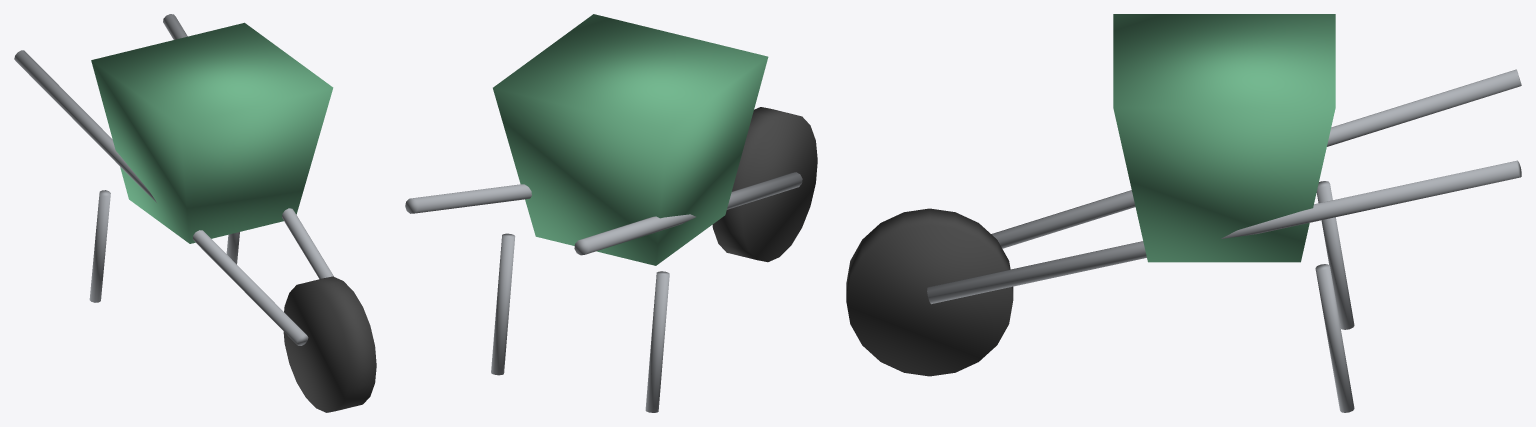
Rendered from wheelbarrow.glb.
The picture shows the model from 3 angles, left to right: view 1: azimuth 30°, elevation 25°; view 2: azimuth 150°, elevation 25°; view 3: azimuth 270°, elevation 25°; orthographic projection. The views are drawn at different scales.
Visible parts, largest first — view 1: Cone, Cylinder, Cylinder.001, Cylinder.003, Cylinder.002; view 2: Cone, Cylinder, Cylinder.001, Cylinder.003, Cylinder.004, Cylinder.002; view 3: Cone, Cylinder, Cylinder.003, Cylinder.001, Cylinder.004, Cylinder.002.
Part boxes in pixels (bbox=[...]): Cone: bbox=[91, 22, 333, 243]; Cylinder: bbox=[283, 276, 376, 412]; Cylinder.001: bbox=[14, 50, 308, 345]; Cylinder.003: bbox=[163, 14, 333, 279]; Cylinder.002: bbox=[89, 190, 110, 302]; Cone: bbox=[493, 14, 768, 265]; Cylinder: bbox=[712, 107, 817, 262]; Cylinder.001: bbox=[574, 172, 802, 255]; Cylinder.003: bbox=[405, 184, 531, 213]; Cylinder.004: bbox=[491, 233, 515, 375]; Cylinder.002: bbox=[645, 271, 669, 412]; Cone: bbox=[1113, 14, 1335, 262]; Cylinder: bbox=[846, 208, 1013, 376]; Cylinder.003: bbox=[927, 160, 1521, 304]; Cylinder.001: bbox=[991, 69, 1521, 248]; Cylinder.004: bbox=[1315, 264, 1354, 412]; Cylinder.002: bbox=[1316, 181, 1354, 329].
Size of the model in its own units: 0.4744 by 0.6923 by 1.38.
